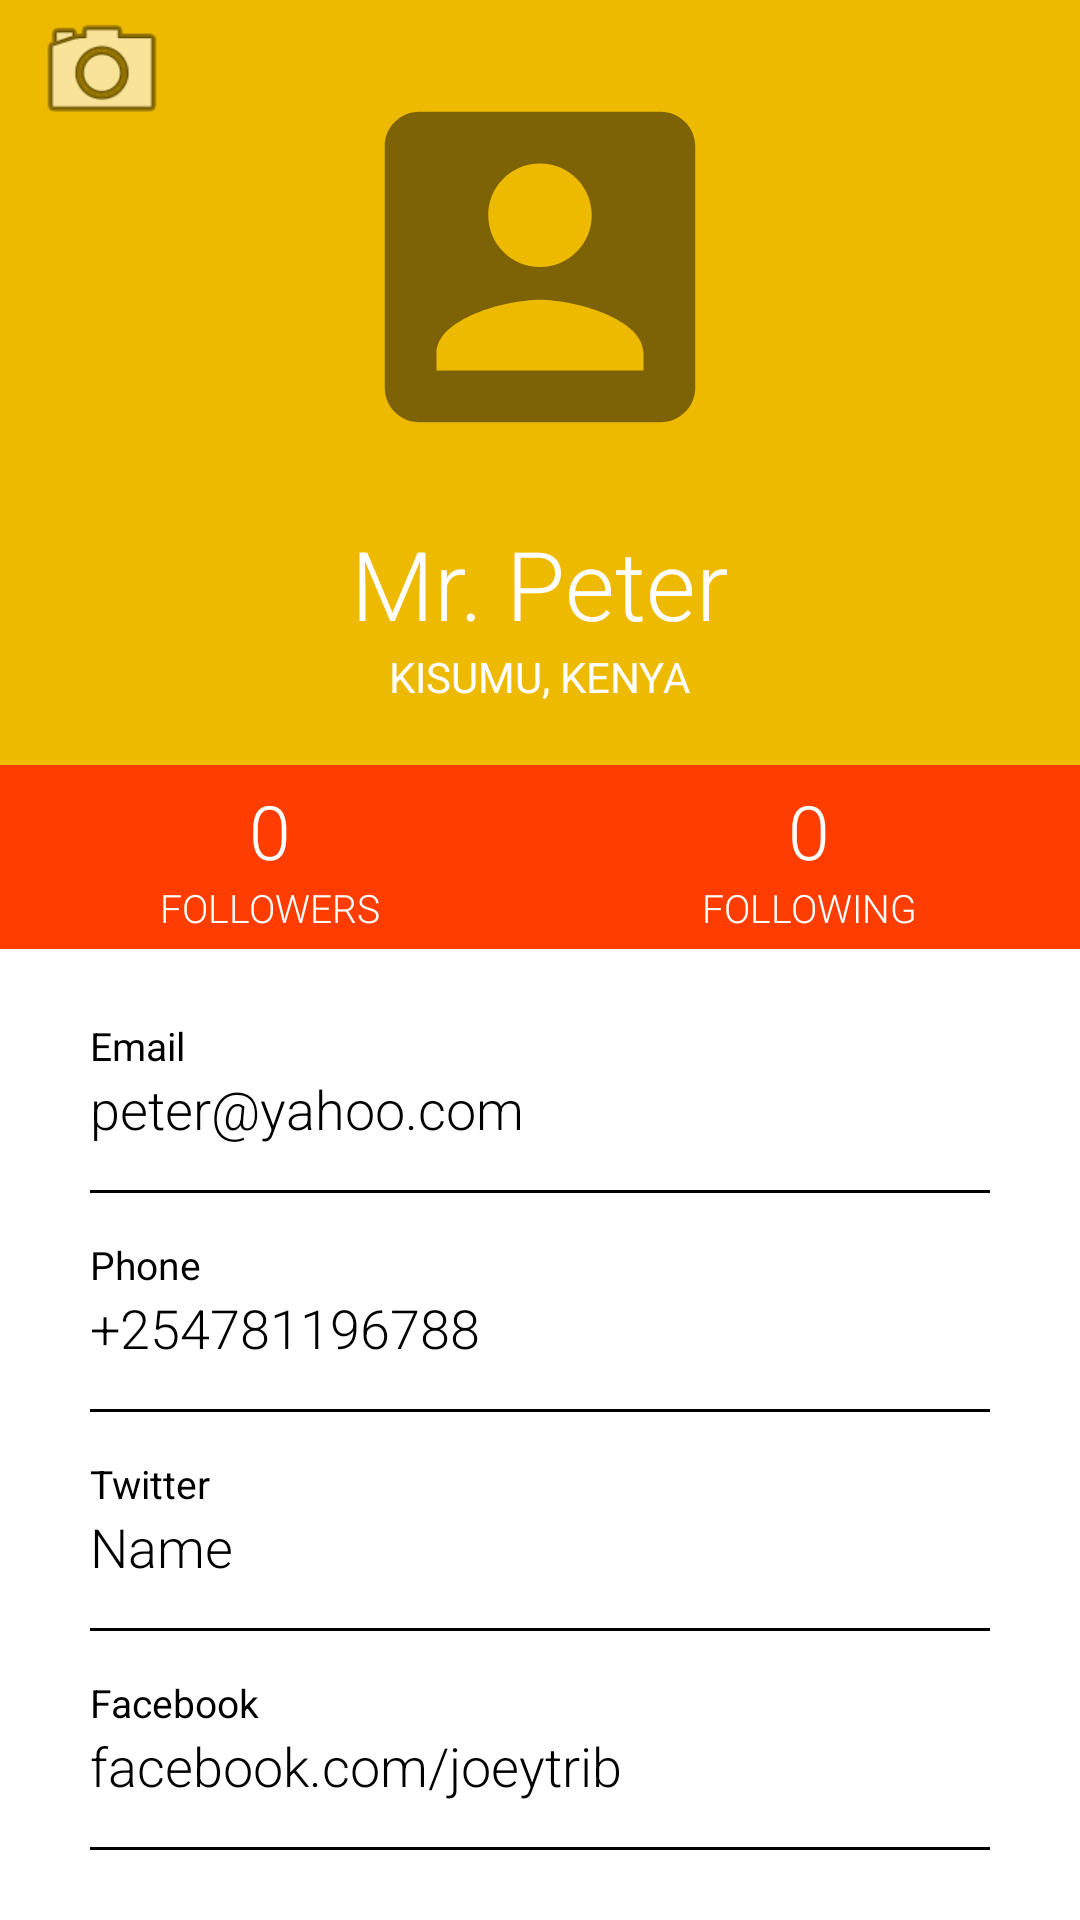

Where to tap for icons on this 1080x1920 app screen, as point (x, y):
camera: point (102, 68)
